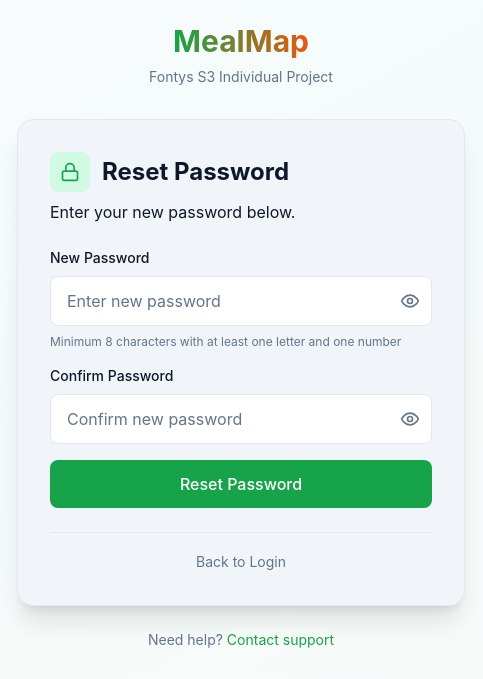
Test: ResetPasswordPage › validates password mismatch
In the password field labelled "New Password": coordinates (241, 300) [50,276,432,326], type "Password123"
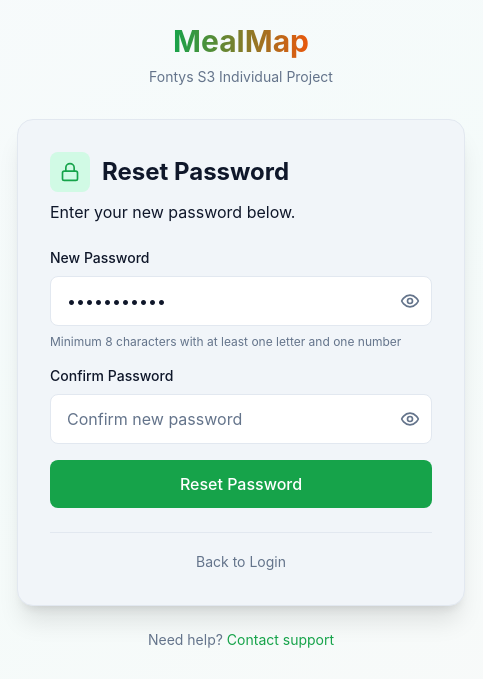
In the password field labelled "Confirm Password": coordinates (241, 418) [50,394,432,444], type "Different123"
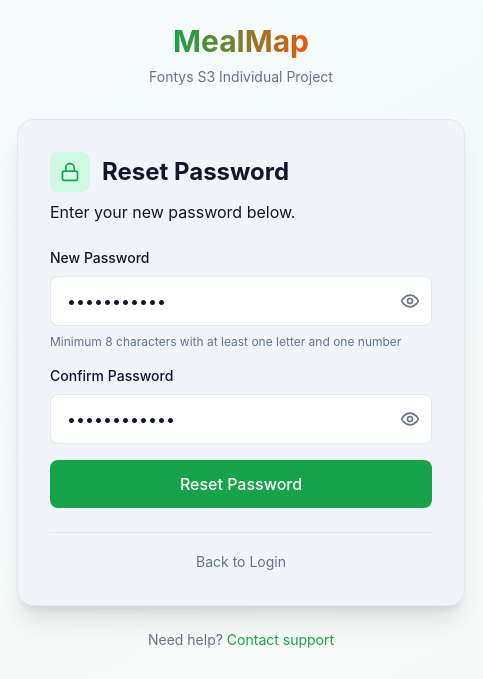
Click the button "Reset Password": coordinates (241, 484) [50,460,432,508]
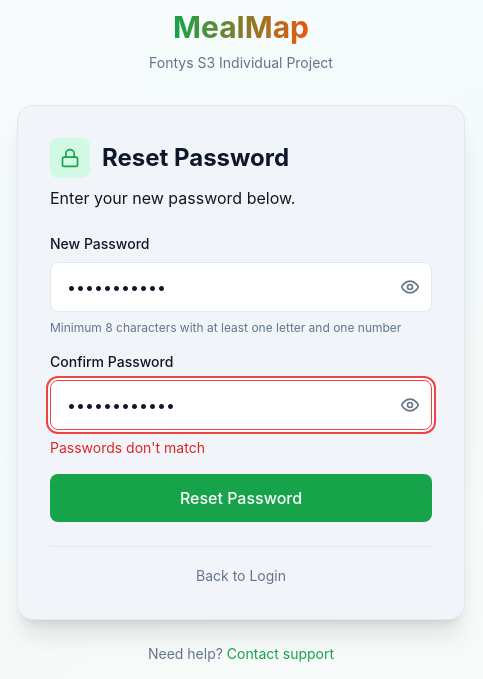
Now the text "Passwords don't match" is shown, box [50,438,205,456]
